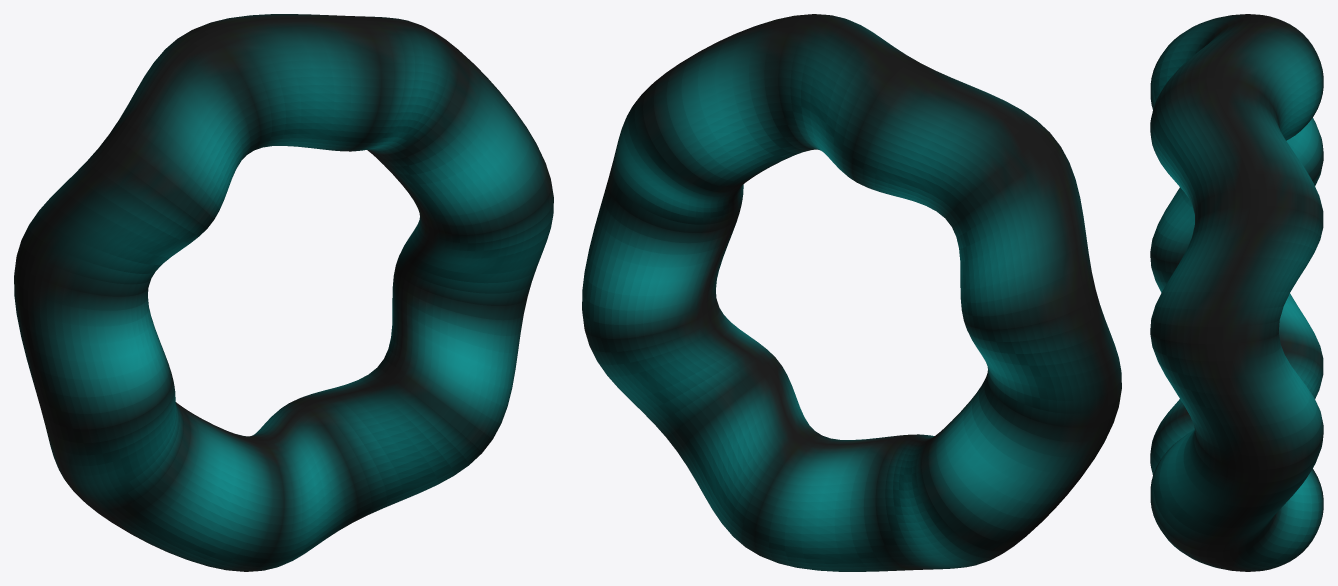
File: step_5.glb
3 views of the same model, side by side, from view 1: azimuth 30°, elevation 25°; view 2: azimuth 150°, elevation 25°; view 3: azimuth 270°, elevation 25° (orthographic). The views are drawn at different scales.
Visible parts, largest first — view 1: world; view 2: world; view 3: world.
Boxes of the visible parts, box(x1,y1,x2,y2) form: world: box(14, 14, 553, 571); world: box(582, 14, 1121, 571); world: box(1150, 14, 1323, 571).
Size of the model in its own units: 26 by 26 by 8.09.
